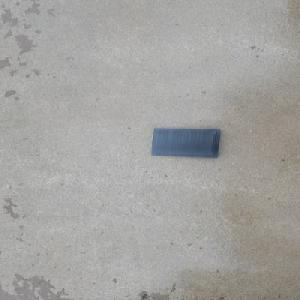PlasticPart: (150, 127, 221, 158)
